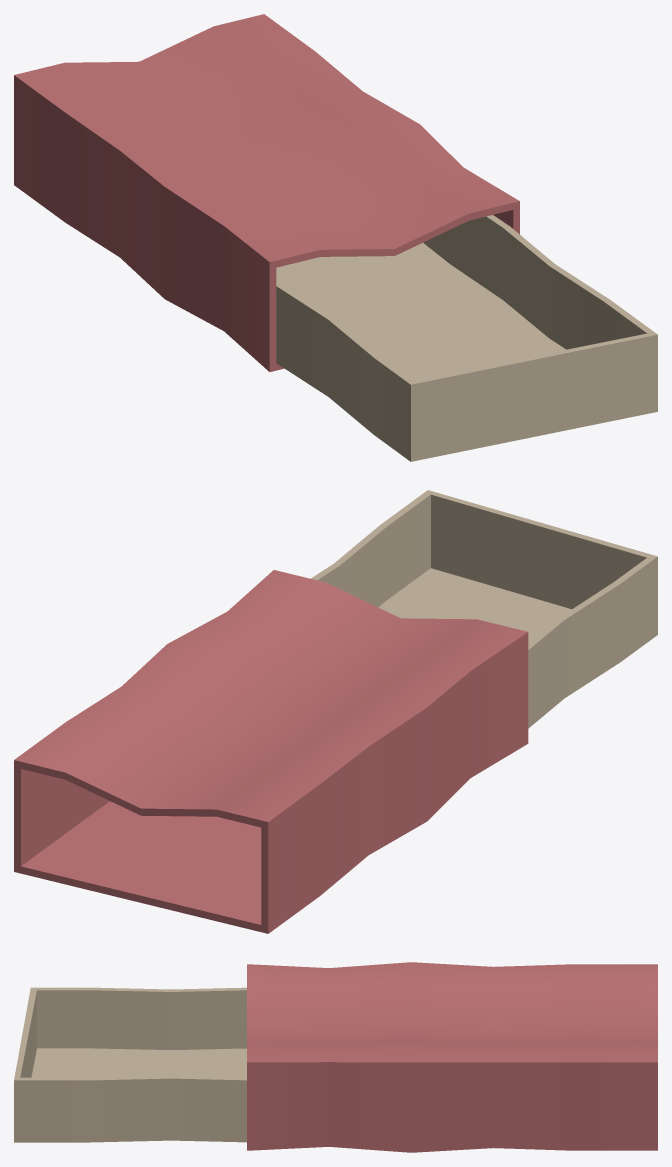
The model's file is SM_Match_Box.fbx.
The picture shows the model from 3 angles, top to bottom: view 1: azimuth 30°, elevation 25°; view 2: azimuth 150°, elevation 25°; view 3: azimuth 270°, elevation 25°; orthographic projection. The views are drawn at different scales.
Visible parts, largest first — view 1: Match_Box; view 2: Match_Box; view 3: Match_Box.
Part boxes in pixels (box(x1,y1,x2,y2)): Match_Box: box(14, 14, 657, 461); Match_Box: box(14, 490, 657, 933); Match_Box: box(14, 962, 657, 1152).
Size of the model in its own units: 37.85 by 15.91 by 103.
